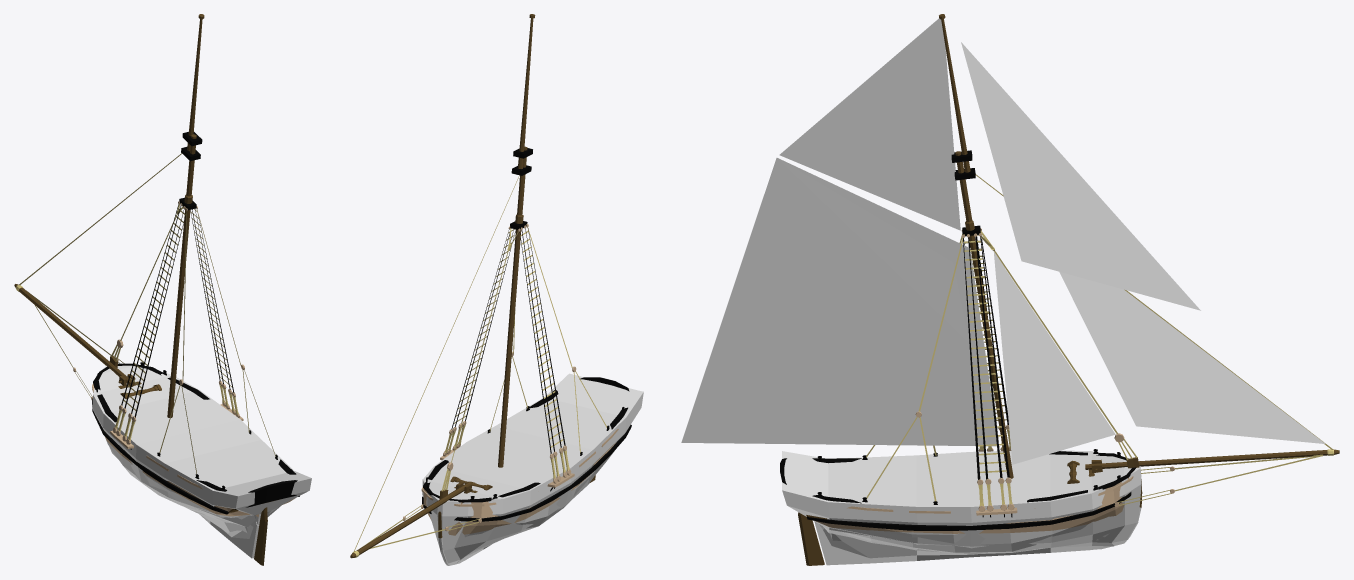
The model's file is cutter.gltf.
The picture shows the model from 3 angles, left to right: view 1: azimuth 30°, elevation 25°; view 2: azimuth 150°, elevation 25°; view 3: azimuth 270°, elevation 25°; orthographic projection. The views are drawn at different scales.
Parts seen in each view (by area): view 1: Cube, Boat; view 2: Cube, Boat; view 3: Plane, Cube, Boat, Plane.005, Plane.004, Plane.003, Plane.002.
Boxes of the visible parts, box(x1,y1,x2,y2) form: Cube: box(92, 363, 311, 558); Boat: box(14, 14, 299, 565); Cube: box(422, 373, 643, 564); Boat: box(350, 14, 631, 565); Plane: box(681, 158, 996, 446); Cube: box(782, 450, 1141, 565); Boat: box(780, 14, 1339, 565); Plane.005: box(779, 18, 960, 230); Plane.004: box(961, 42, 1200, 310); Plane.003: box(1059, 272, 1325, 443); Plane.002: box(994, 252, 1115, 464).
Size of the model in its own units: 5.39 by 22.47 by 24.36.
